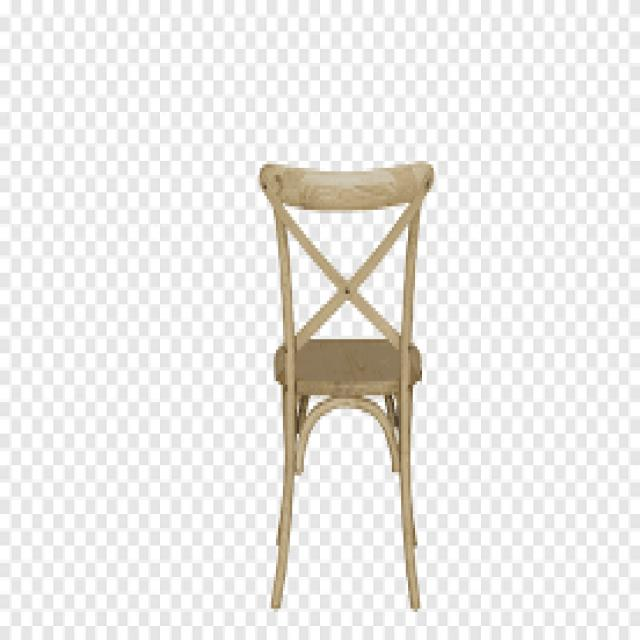chair: (244, 143, 452, 640)
